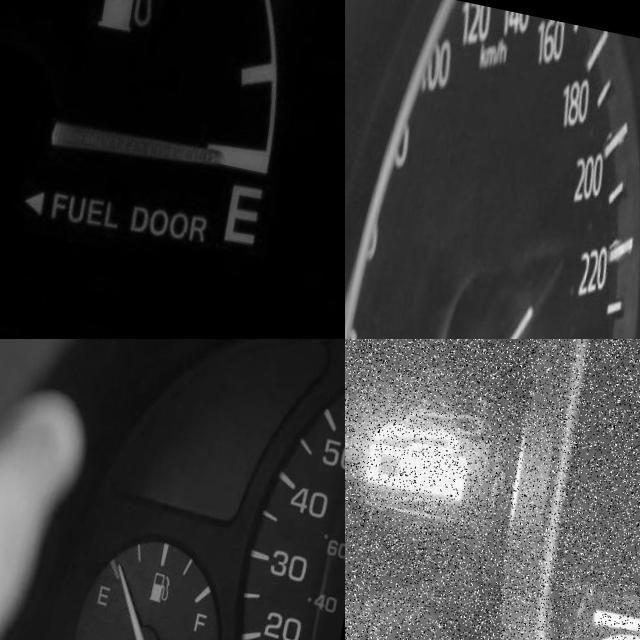Electronic Power Steering: (576, 548, 640, 640)
